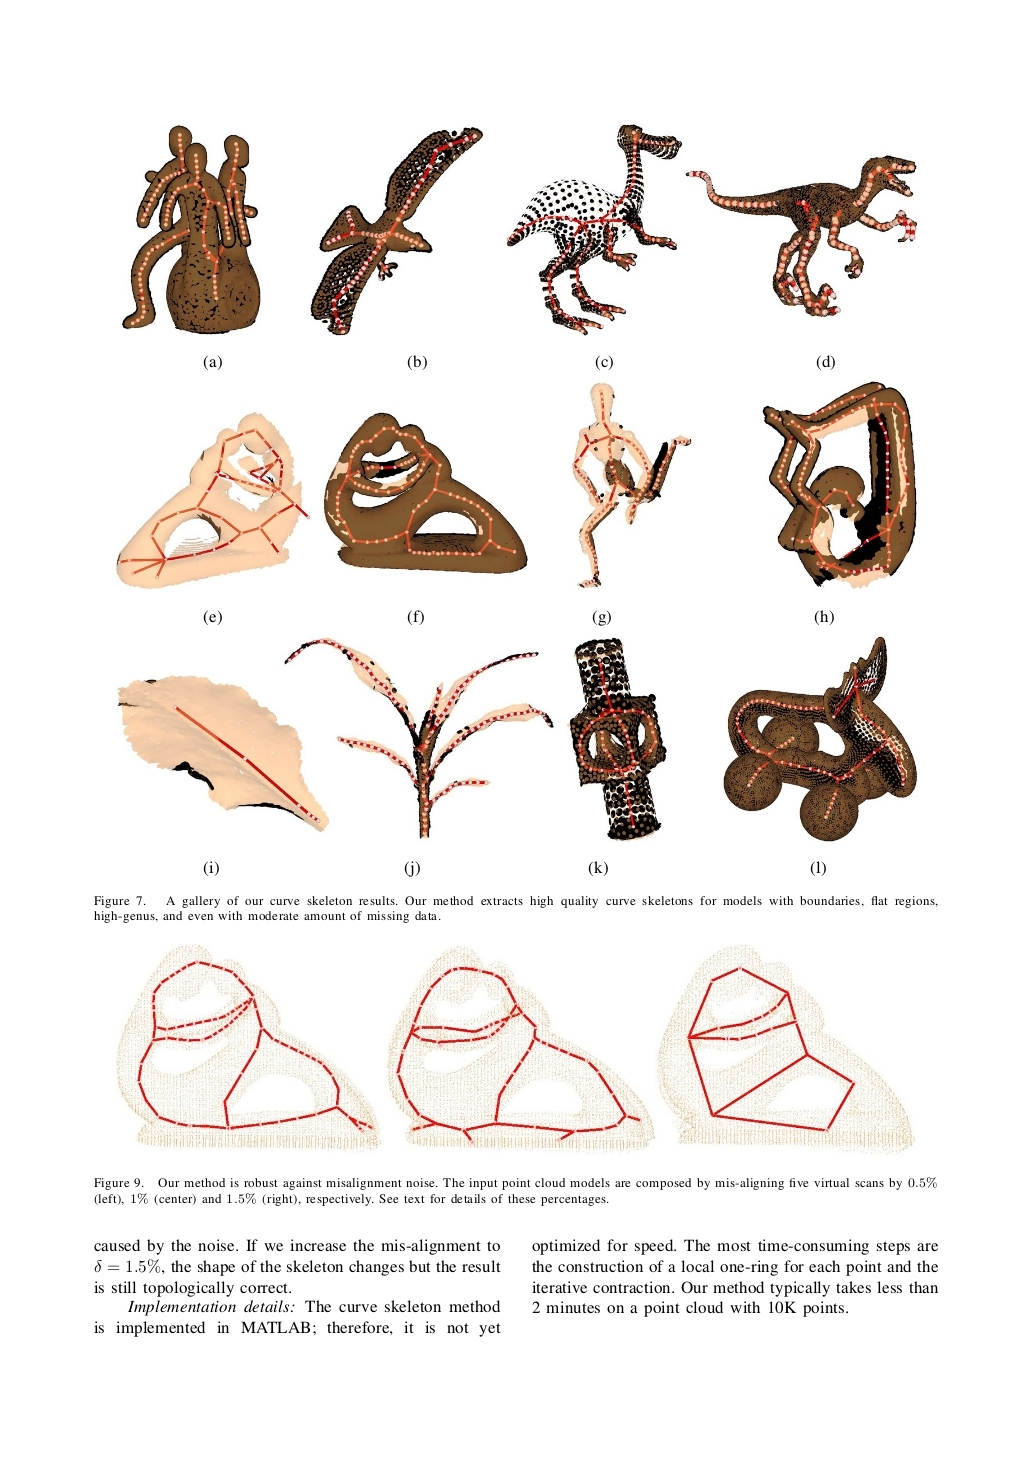figure: (117, 639, 553, 838), (116, 944, 389, 1152), (388, 946, 658, 1153), (658, 946, 914, 1154), (723, 636, 916, 841), (506, 124, 682, 335), (685, 155, 916, 316), (310, 127, 482, 335), (116, 412, 309, 588), (324, 412, 527, 573), (762, 381, 916, 588), (122, 125, 260, 334), (572, 383, 691, 587), (566, 637, 666, 841)
